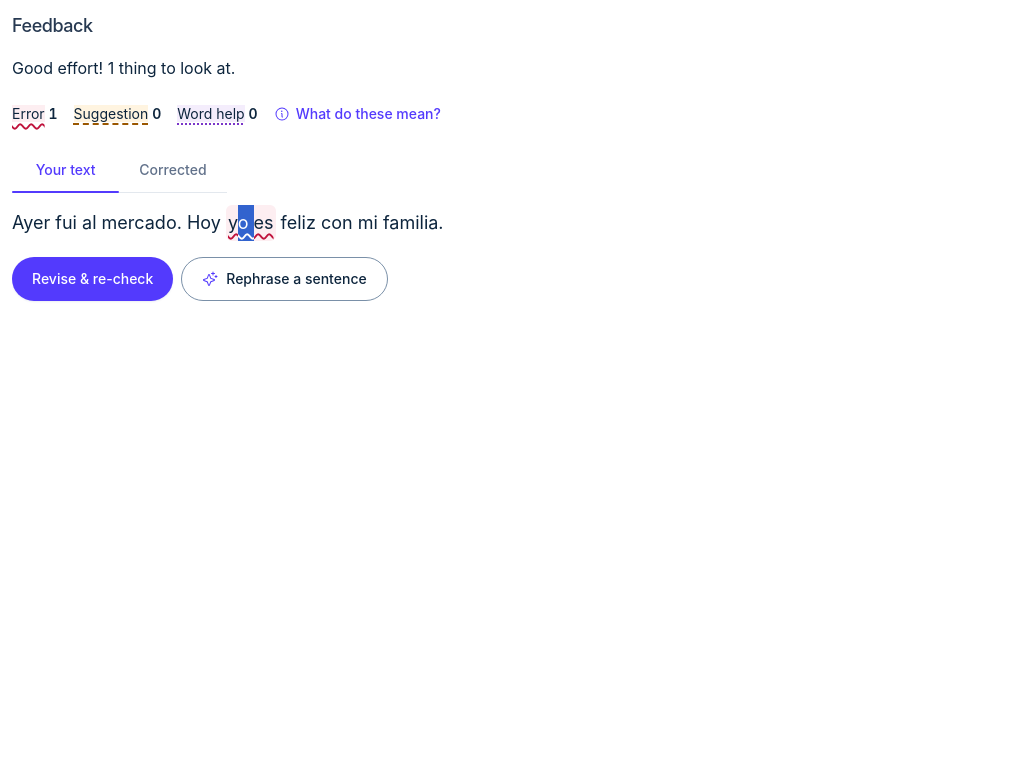
RevisableFeedback rephrase › starts on the sentence the learner had selected in the entry text
The image size is (1036, 780).
Click the button "Rephrase a sentence". click: (284, 279)
box: [181,257,388,301]
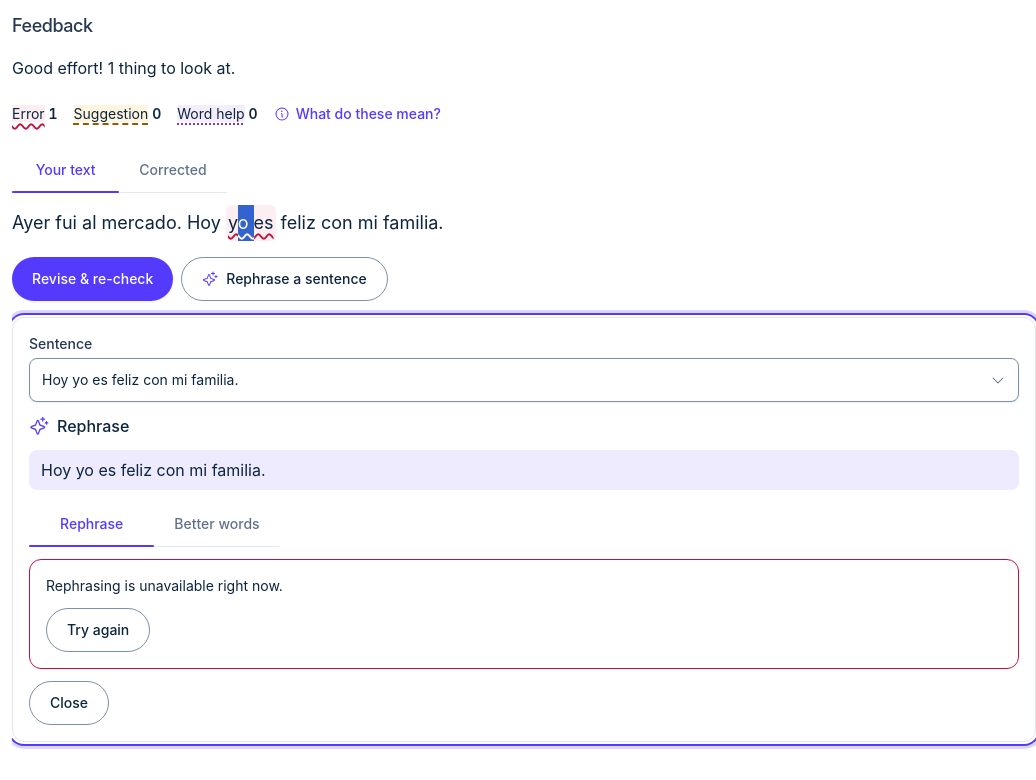
Expected: the dropdown named "Sentence" reads "Hoy yo es feliz con mi familia.", [29,358,1019,402]
